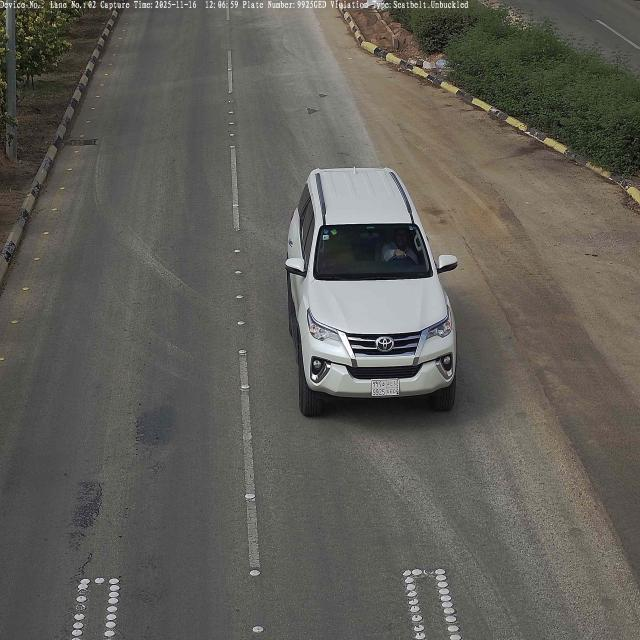person_without_seatbelt: (381, 232, 416, 266)
